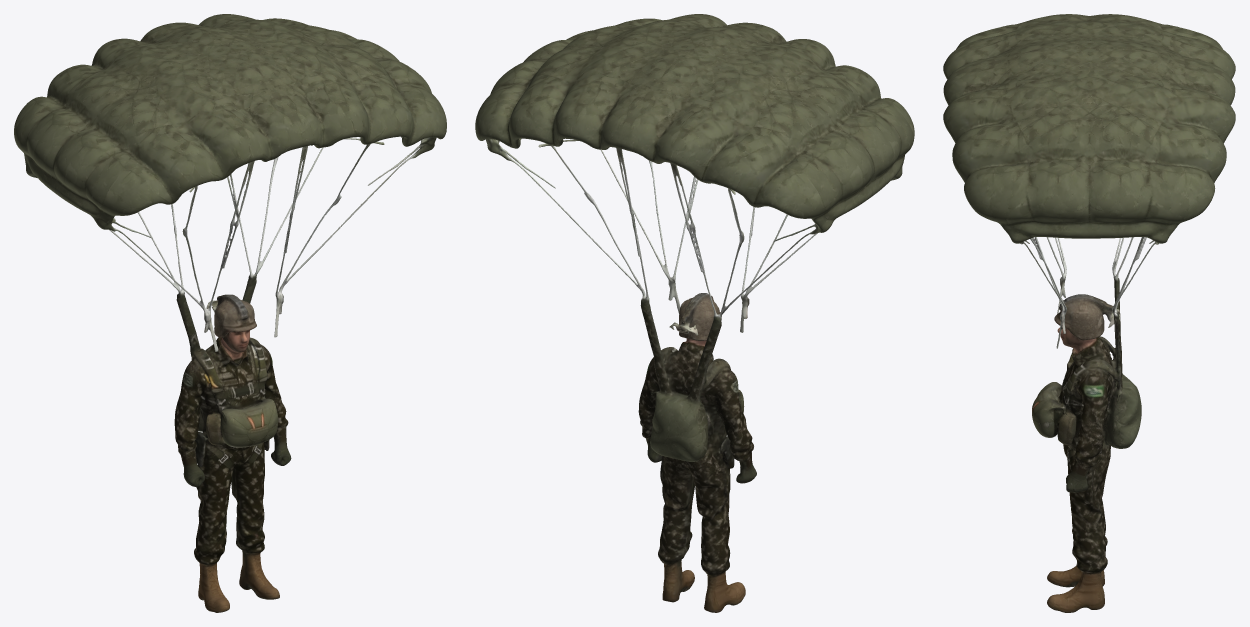
Rendered from Paratrooper.glb.
3 renders of one model, left to right at view 1: azimuth 30°, elevation 25°; view 2: azimuth 150°, elevation 25°; view 3: azimuth 270°, elevation 25°, orthographic.
Bounding box in the file's own units: 1.32 × 1.9 × 0.917.
1 material, 1 textured.
